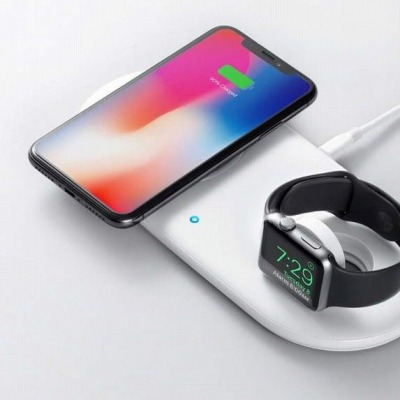iphone: (24, 23, 319, 229)
